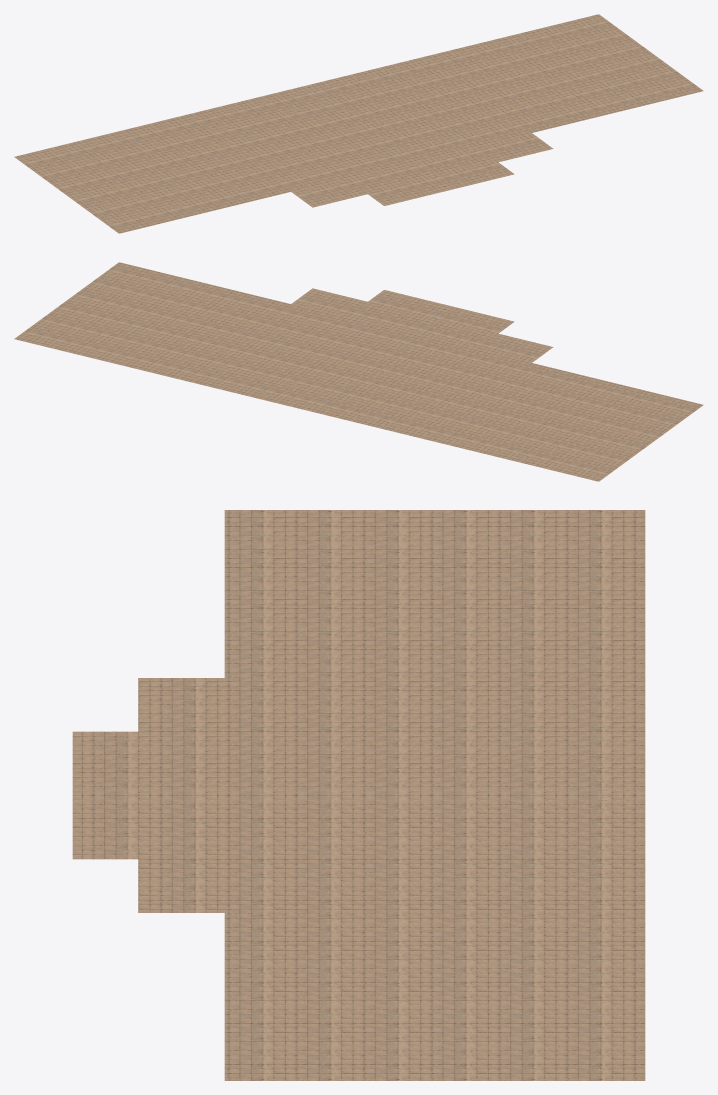
File: Ground06_Build_LostTemple_002.FBX
The picture shows the model from 3 angles, top to bottom: view 1: azimuth 30°, elevation 25°; view 2: azimuth 150°, elevation 25°; view 3: azimuth 270°, elevation 25°; orthographic projection. The views are drawn at different scales.
Visible parts, largest first — view 1: Ground06_Build_LostTemple_002; view 2: Ground06_Build_LostTemple_002; view 3: Ground06_Build_LostTemple_002.
Part boxes in pixels (<box>): Ground06_Build_LostTemple_002: <box>14,14,703,233</box>; Ground06_Build_LostTemple_002: <box>14,262,703,481</box>; Ground06_Build_LostTemple_002: <box>72,510,645,1080</box>.
Bounding box in the file's own units: 12335 × 0.000228 × 5227.
Materials: 1 (1 with a texture image).
